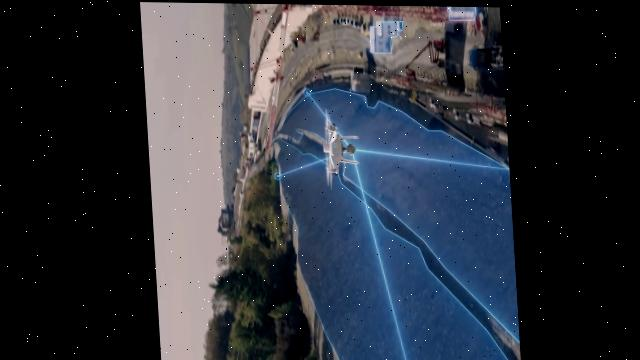drone: (316, 105, 361, 187)
